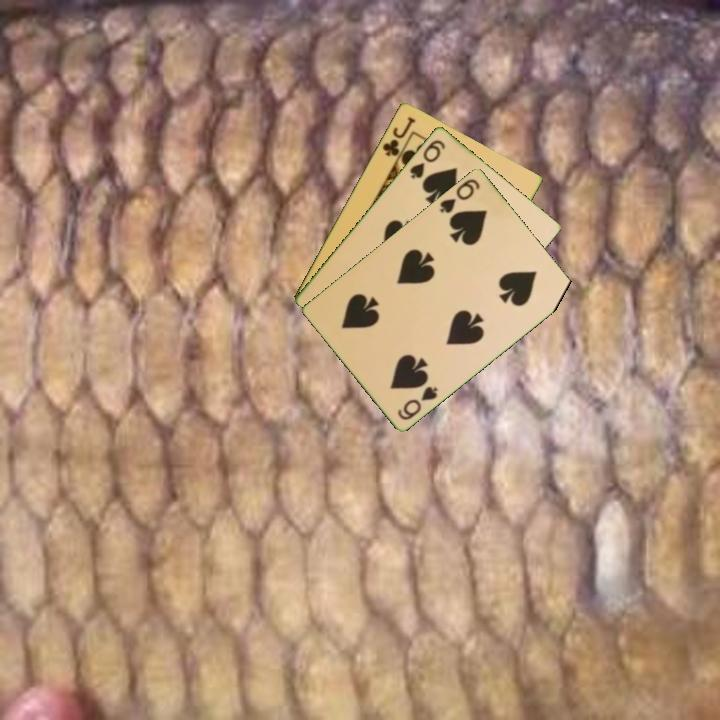6s: (406, 135, 448, 181), (436, 175, 483, 216), (394, 382, 441, 423)
Jc: (379, 112, 418, 159)
